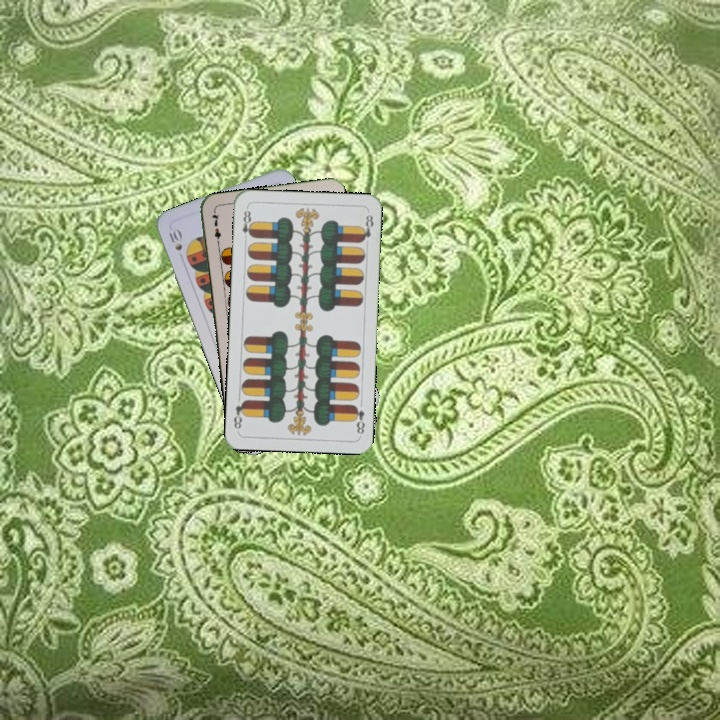E7: (208, 208, 224, 249)
E8: (238, 204, 256, 244), (349, 401, 367, 437)
S10: (165, 226, 185, 253)
